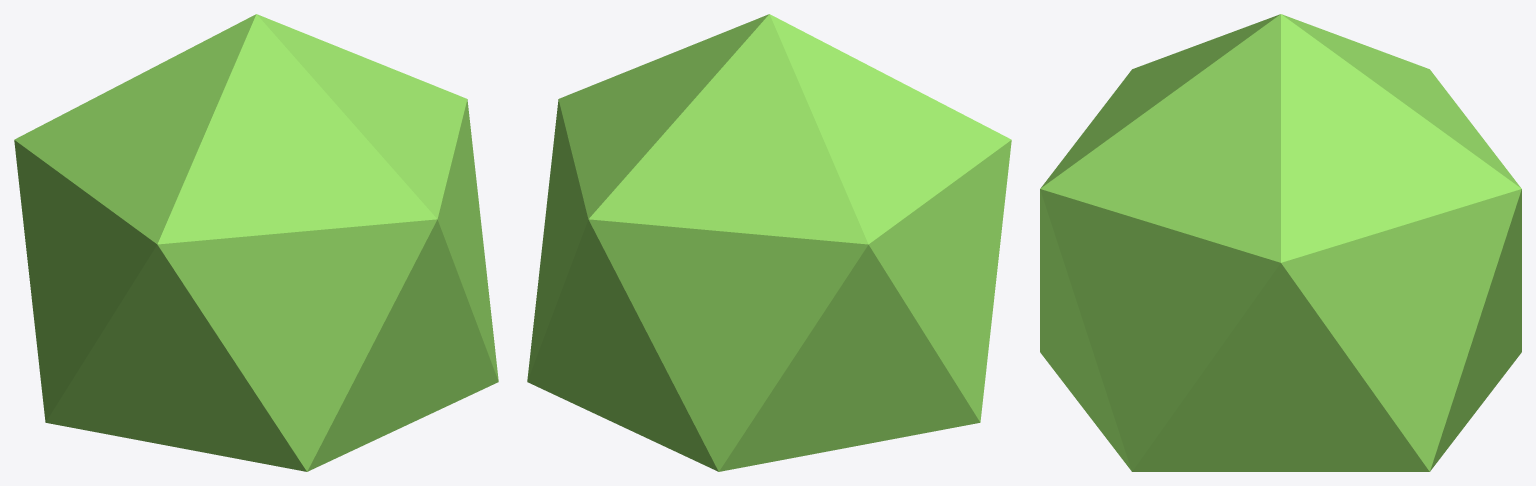
Rendered from Bush.glb.
3 views of the same model, side by side, from view 1: azimuth 30°, elevation 25°; view 2: azimuth 150°, elevation 25°; view 3: azimuth 270°, elevation 25° (orthographic). The views are drawn at different scales.
Parts seen in each view (by area): view 1: Bush -col; view 2: Bush -col; view 3: Bush -col.
Boxes of the visible parts, <box> form: Bush -col: <box>14,14,498,471</box>; Bush -col: <box>527,14,1011,471</box>; Bush -col: <box>1040,14,1521,471</box>.
Size of the model in its own units: 1.79 by 1.51 by 1.7.
